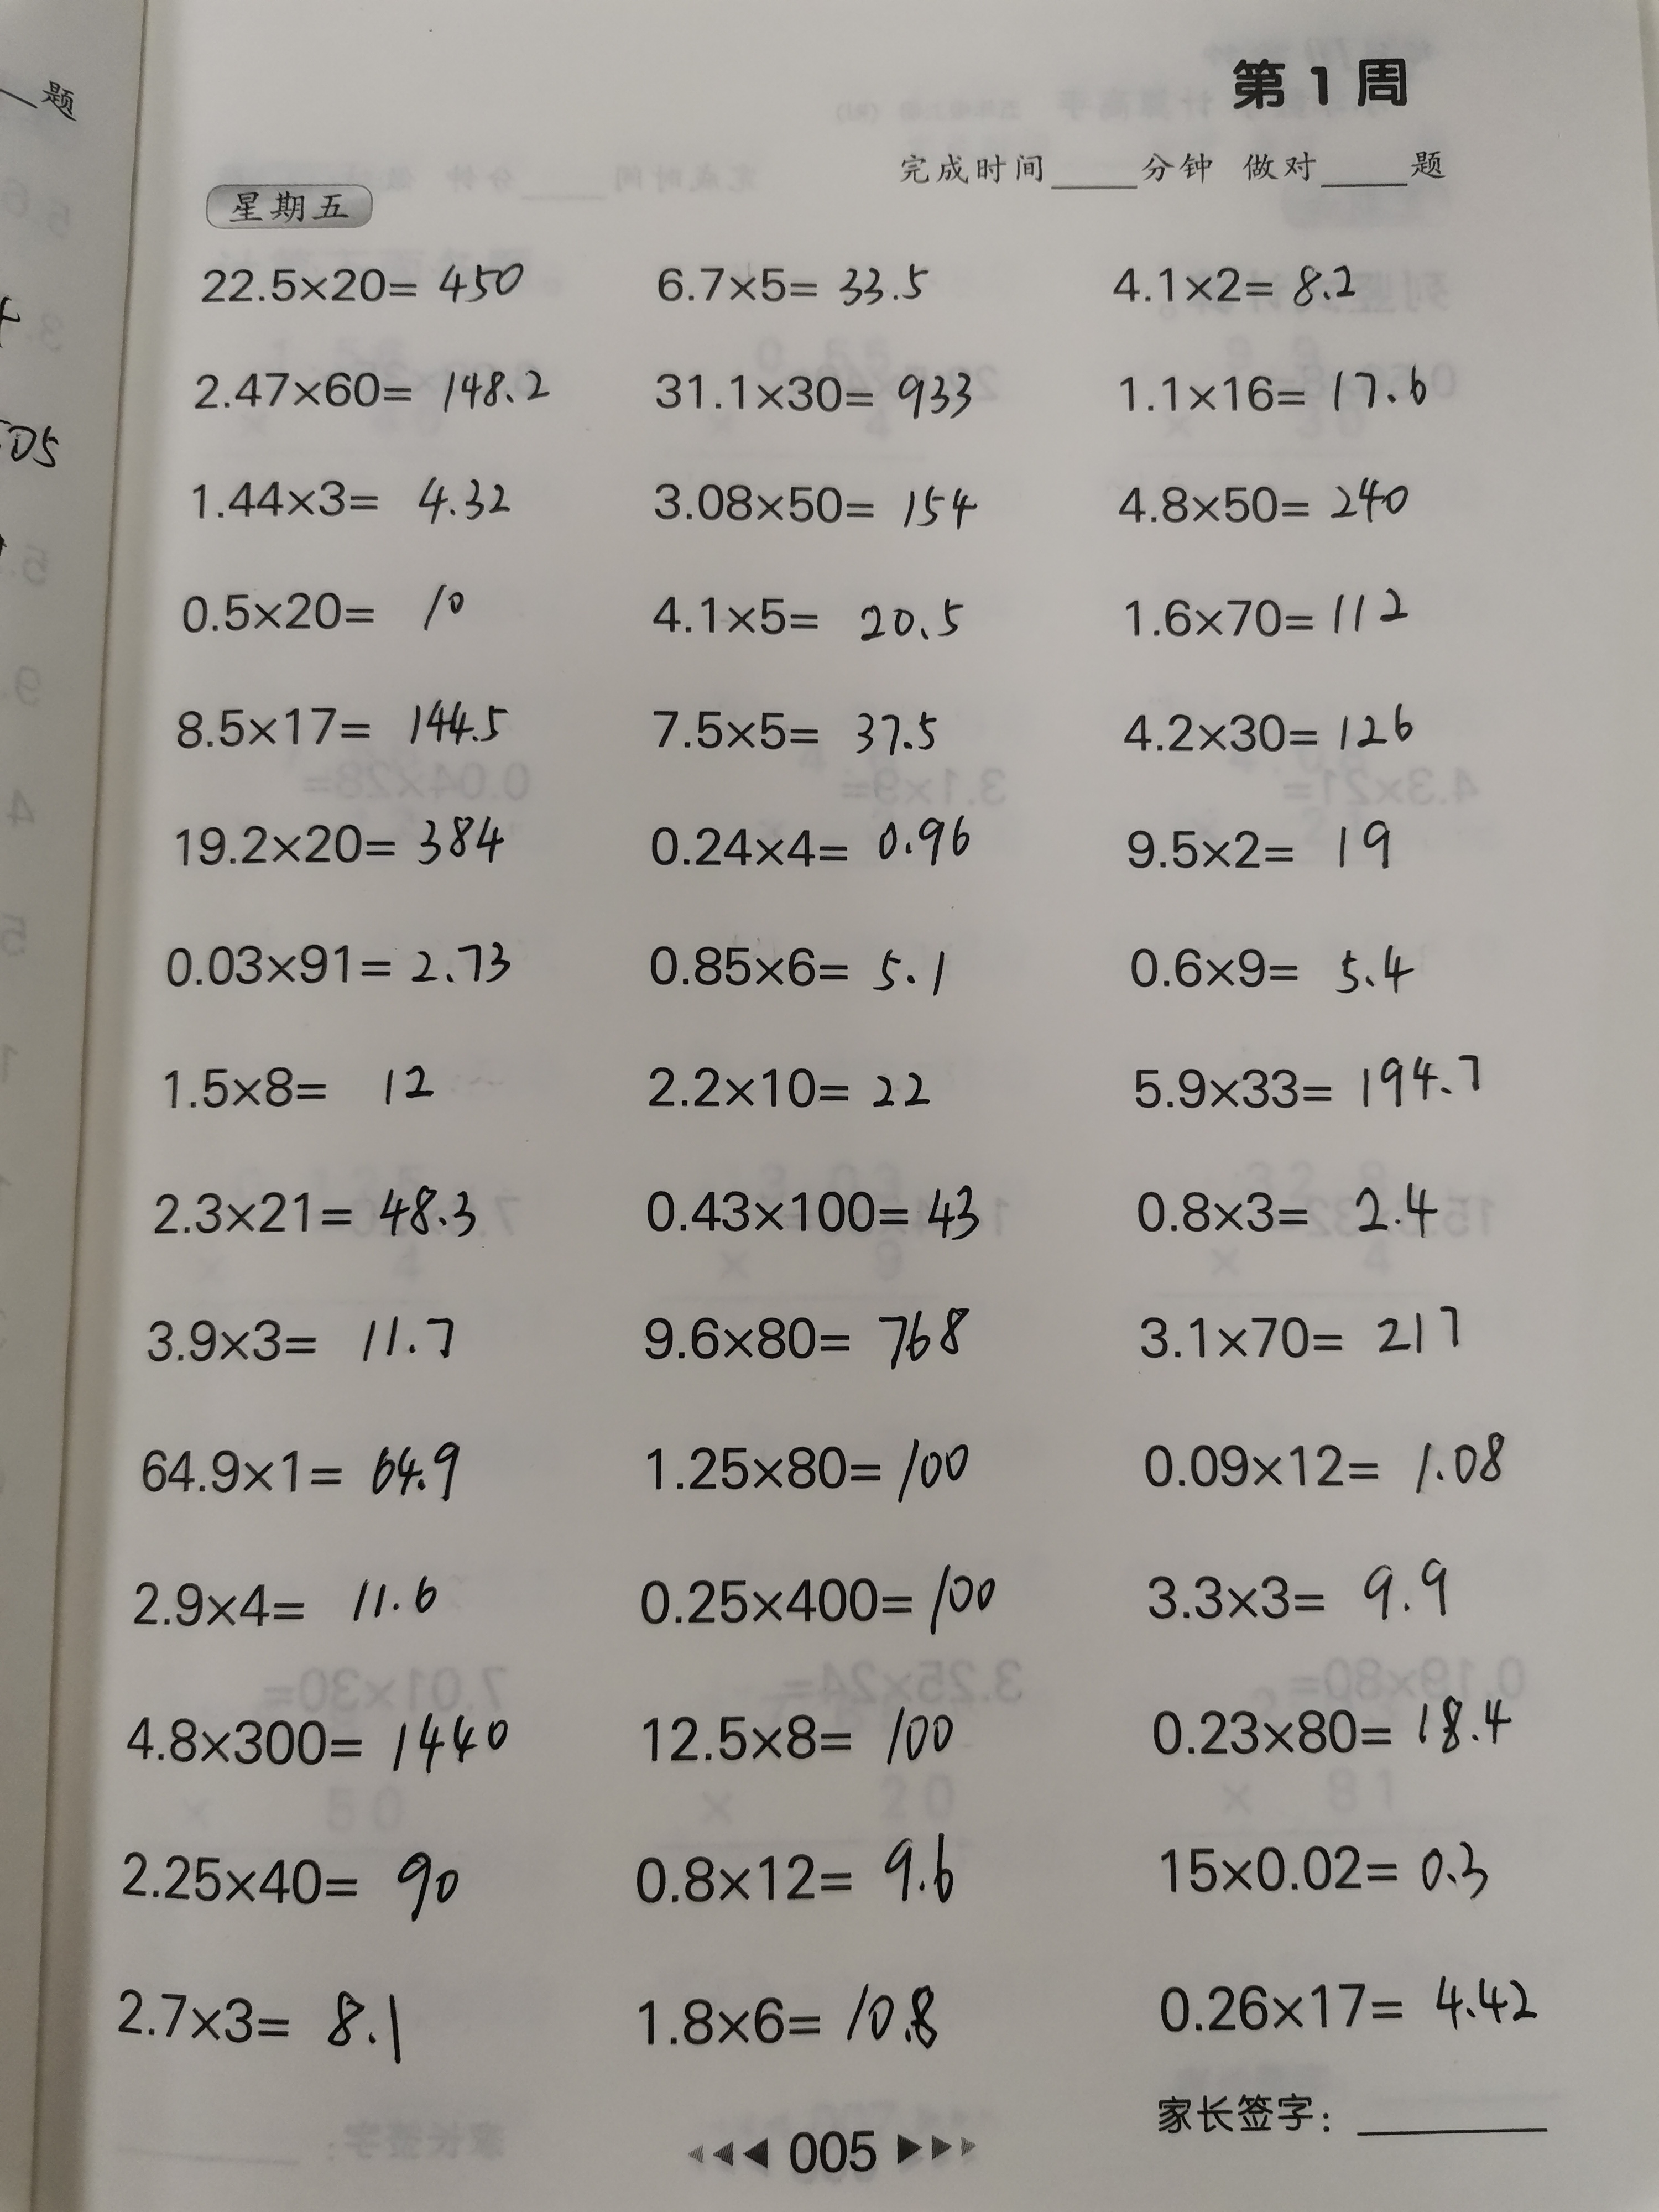equation: (99, 1824, 493, 1935), (1114, 1420, 1523, 1519), (115, 1691, 526, 1787), (615, 1824, 995, 1925), (619, 1555, 1028, 1648), (1107, 1040, 1514, 1132), (99, 1965, 436, 2076), (145, 914, 545, 1007), (1133, 1681, 1534, 1773), (132, 1160, 509, 1258), (631, 914, 981, 1017), (619, 1688, 992, 1784), (1121, 1278, 1493, 1374), (1133, 1954, 1560, 2038), (169, 453, 549, 545), (631, 1160, 1007, 1249), (118, 1294, 505, 1379), (122, 1430, 493, 1519), (631, 1420, 1002, 1508), (155, 678, 538, 763), (152, 796, 535, 881), (638, 568, 985, 660), (1143, 1822, 1507, 1909), (627, 1294, 999, 1379), (178, 347, 572, 427), (1114, 1548, 1471, 1634), (634, 690, 981, 777), (624, 1968, 962, 2057), (638, 799, 988, 885), (1107, 1172, 1457, 1258), (641, 460, 999, 542), (122, 1566, 476, 1648), (136, 1040, 469, 1123), (178, 247, 552, 320), (1100, 453, 1434, 535), (1110, 925, 1431, 1010), (631, 1050, 974, 1127), (1101, 690, 1441, 766), (1100, 354, 1460, 423), (1100, 810, 1434, 885), (638, 357, 995, 427), (162, 571, 512, 641), (1087, 254, 1401, 331), (1107, 578, 1438, 648), (638, 247, 958, 317)
